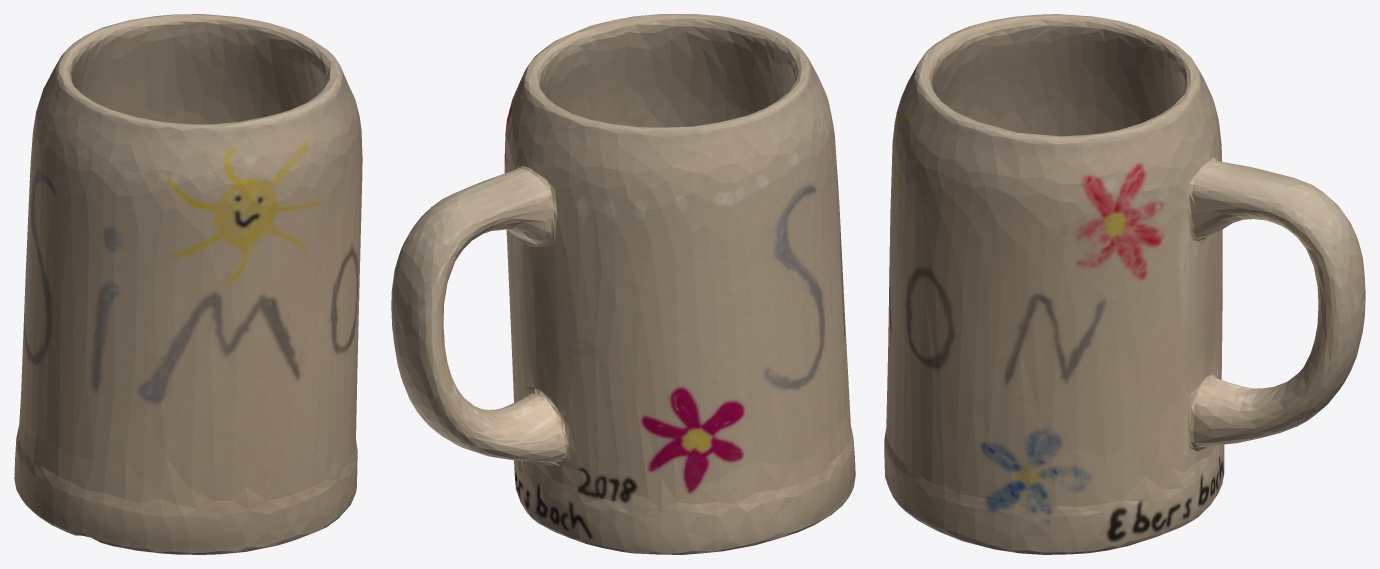
The model's file is DB201AE9-7863-BF40-BBCA-E984C8C61FC7_2k.glb.
3 views of the same model, side by side, from view 1: azimuth 30°, elevation 25°; view 2: azimuth 150°, elevation 25°; view 3: azimuth 270°, elevation 25° (orthographic).
Visible parts, largest first — view 1: Krug Simon_4k_2k; view 2: Krug Simon_4k_2k; view 3: Krug Simon_4k_2k.
Boxes of the visible parts, x1,y1,x2,y2 form: Krug Simon_4k_2k: (14, 14, 362, 554); Krug Simon_4k_2k: (391, 14, 855, 554); Krug Simon_4k_2k: (884, 14, 1365, 554).
Bounding box in the file's own units: 0.1032 × 0.1366 × 0.1419.
1 material, 1 textured.
